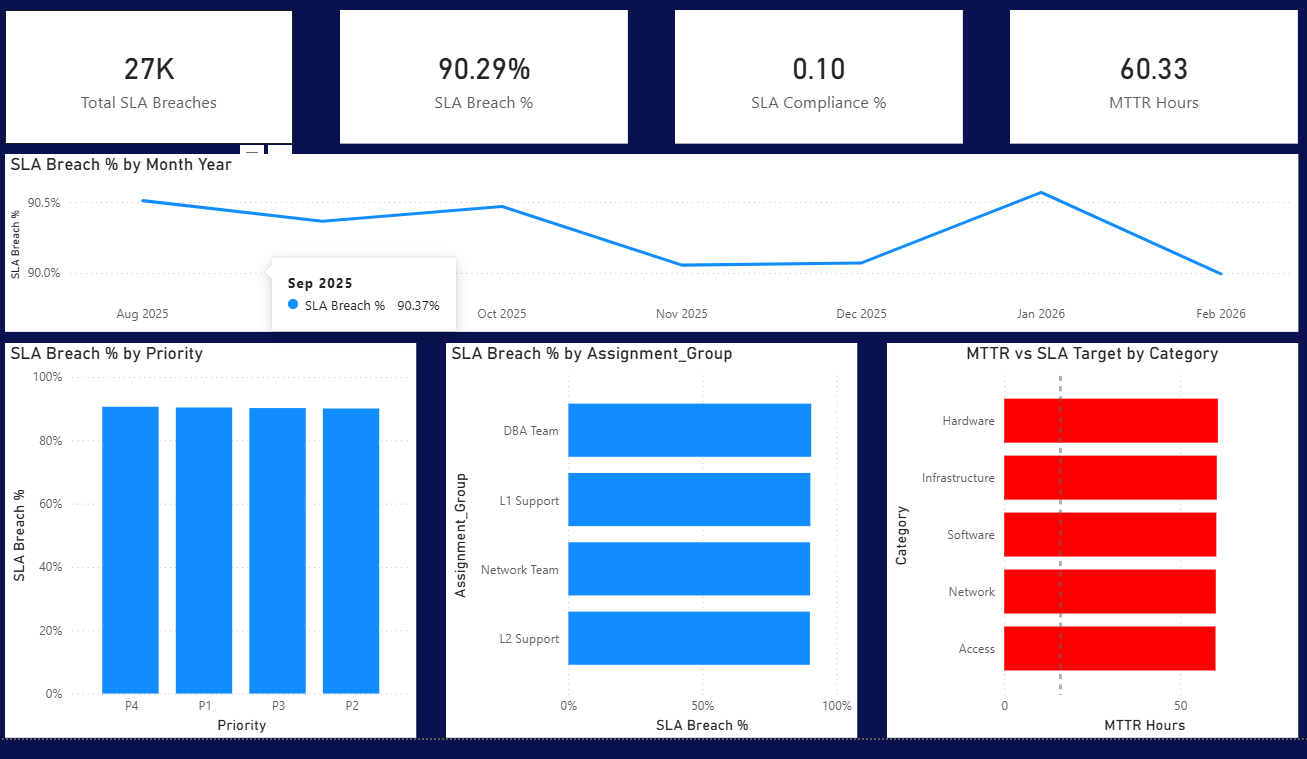

The page's visual inventory and layout, read from the dashboard file:
{"tool":"powerbi","page":{"name":"SLA Deep Dive","canvas":[1280,720],"ordinal":1},"visuals":[{"type":"card","fields":{"Values":["Tickets.Total SLA Breaches"]},"box":[7.8,11.7,280.1,130.3],"z":0},{"type":"card","fields":{"Values":["Tickets.SLA Breach %"]},"box":[333.6,11.7,280.1,130.3],"z":1000},{"type":"card","fields":{"Values":["Tickets.SLA Compliance %"]},"box":[659.5,11.7,280.1,130.3],"z":2000},{"type":"card","fields":{"Values":["Tickets.MTTR Hours"]},"box":[985.3,11.7,280.1,130.3],"z":3000},{"type":"lineChart","fields":{"Category":["Tickets.Month Year"],"Y":["Tickets.SLA Breach %"]},"box":[7.8,151.7,1257.6,173.1],"z":4000},{"type":"clusteredColumnChart","fields":{"Category":["Tickets.Priority"],"Y":["Tickets.SLA Breach %"]},"box":[7.8,336,400,384],"z":5000},{"type":"barChart","fields":{"Category":["Tickets.Assignment_Group"],"Y":["Tickets.SLA Breach %"]},"box":[436.7,335.6,399.8,384.2],"z":6000},{"type":"clusteredBarChart","title":"MTTR vs SLA Target by Category","fields":{"Category":["Tickets.Category"],"Y":["Tickets.MTTR Hours"]},"box":[865.7,335.6,399.8,384.2],"z":7000}]}

Visuals, with their boxes on the page's 1280x720 design canvas (x1, y1, x2, y2). These are canvas units, not pixel positions in the 1307x759 screenshot, which may show the page scaled, cropped or inside an application window:
card - Tickets.Total SLA Breaches: [8,12,288,142]
card - Tickets.SLA Breach %: [334,12,614,142]
card - Tickets.SLA Compliance %: [660,12,940,142]
card - Tickets.MTTR Hours: [985,12,1265,142]
lineChart - Tickets.Month Year x Tickets.SLA Breach %: [8,152,1265,325]
clusteredColumnChart - Tickets.Priority x Tickets.SLA Breach %: [8,336,408,720]
barChart - Tickets.Assignment_Group x Tickets.SLA Breach %: [437,336,836,720]
"MTTR vs SLA Target by Category" clusteredBarChart: [866,336,1266,720]
